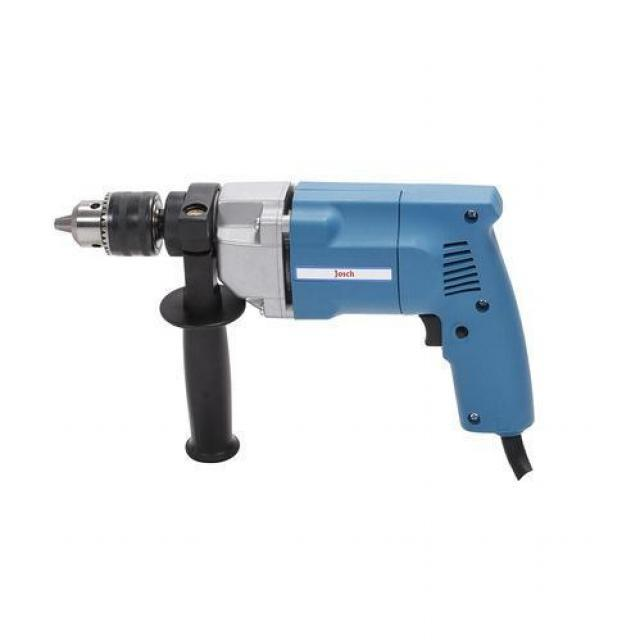drill: (54, 180, 536, 482)
